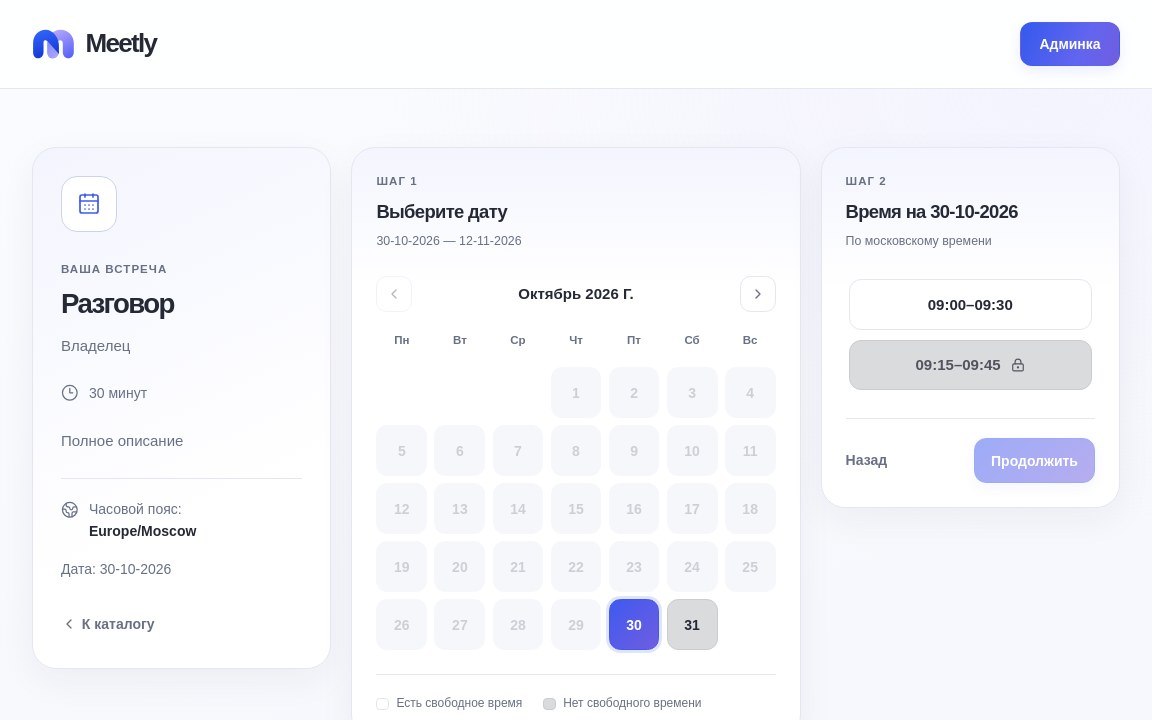
Test: continue rechecks exact selected start and refuses a now-busy slot
What coordinates should you click on to do the following:
click the button named "09:00–09:30 — Свободно"
I would click on:
 (970, 304)
Its box is [849,279,1092,330].
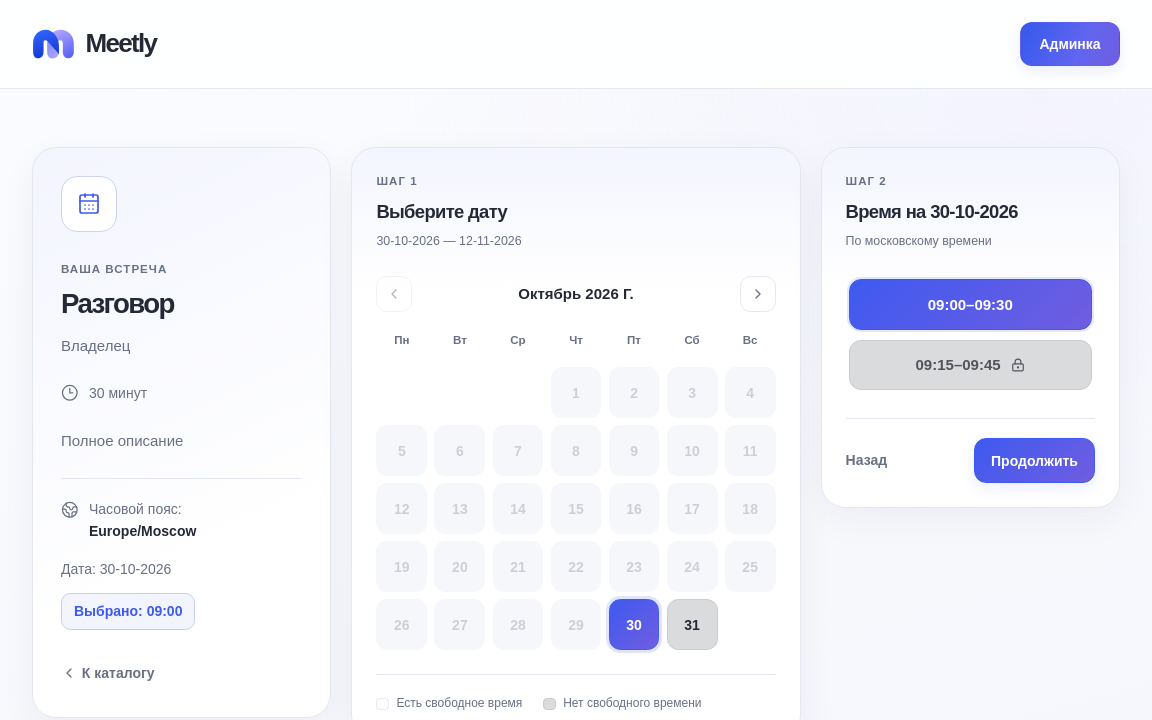
What coordinates should you click on to do the following:
click the button "Продолжить"
I would click on:
 (1034, 460)
Its box is [974,438,1095,483].
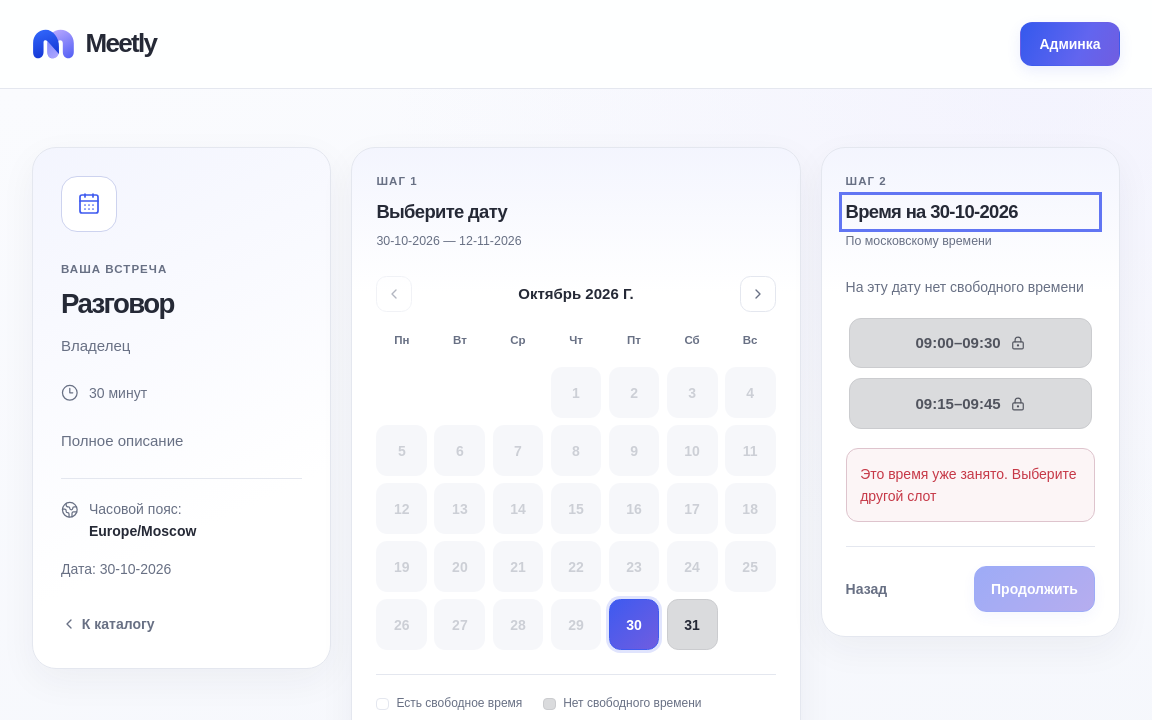
Expected: the text "Это время уже занято. Выберите другой слот" is shown, [846,448,1095,522]
Expected: the button "Продолжить" is disabled, [974,566,1095,612]
